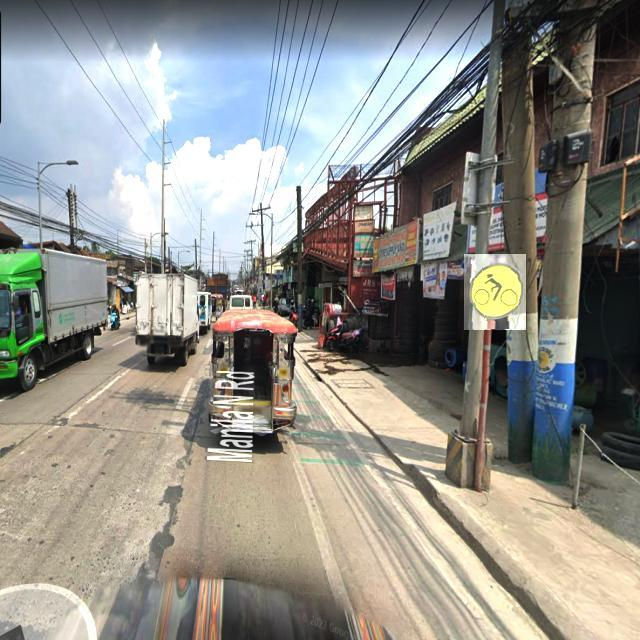bike lane: (464, 254, 526, 330)
